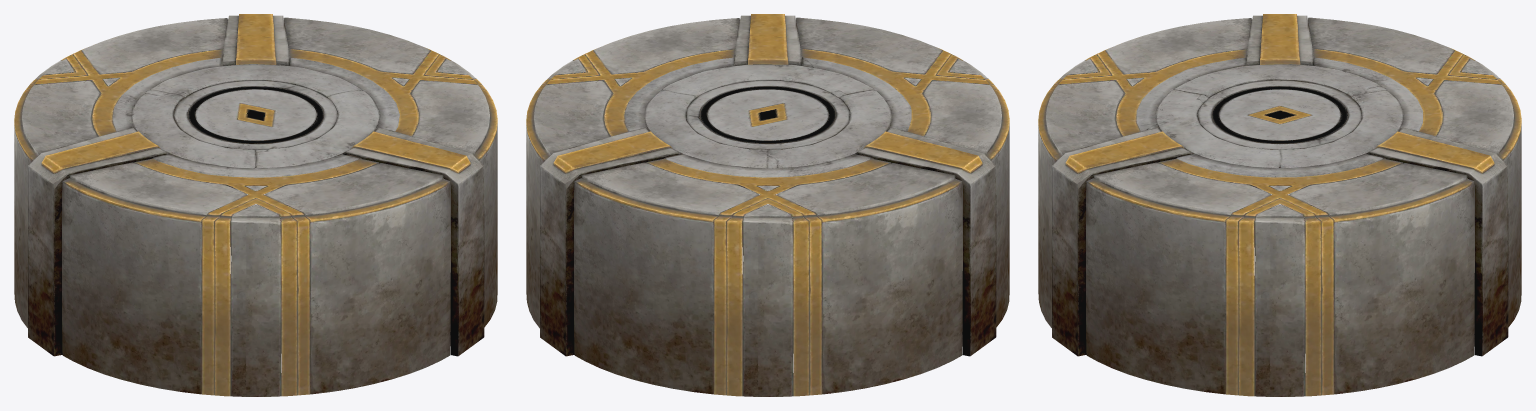
The picture shows the model from 3 angles, left to right: view 1: azimuth 30°, elevation 25°; view 2: azimuth 150°, elevation 25°; view 3: azimuth 270°, elevation 25°; orthographic projection.
Visible parts, largest first — view 1: SM_Kuldra_Stand_01_LOD0; view 2: SM_Kuldra_Stand_01_LOD0; view 3: SM_Kuldra_Stand_01_LOD0.
Boxes of the visible parts, x1=… form: SM_Kuldra_Stand_01_LOD0: x1=14, y1=14, x2=497, y2=396; SM_Kuldra_Stand_01_LOD0: x1=526, y1=14, x2=1009, y2=396; SM_Kuldra_Stand_01_LOD0: x1=1038, y1=14, x2=1521, y2=396.
Size of the model in its own units: 5.07 by 2.08 by 5.
Materials: 2 (2 with a texture image).
